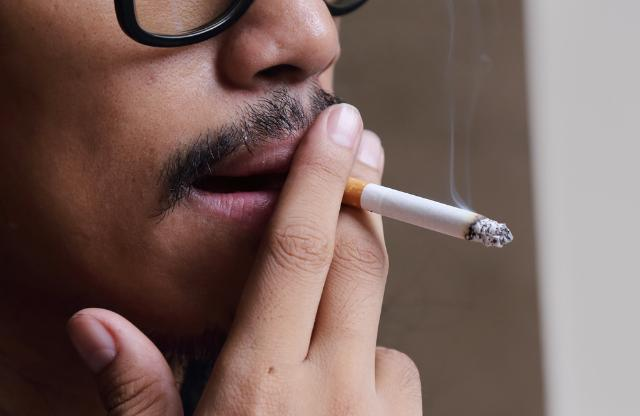Smoking: (308, 168, 516, 249)
